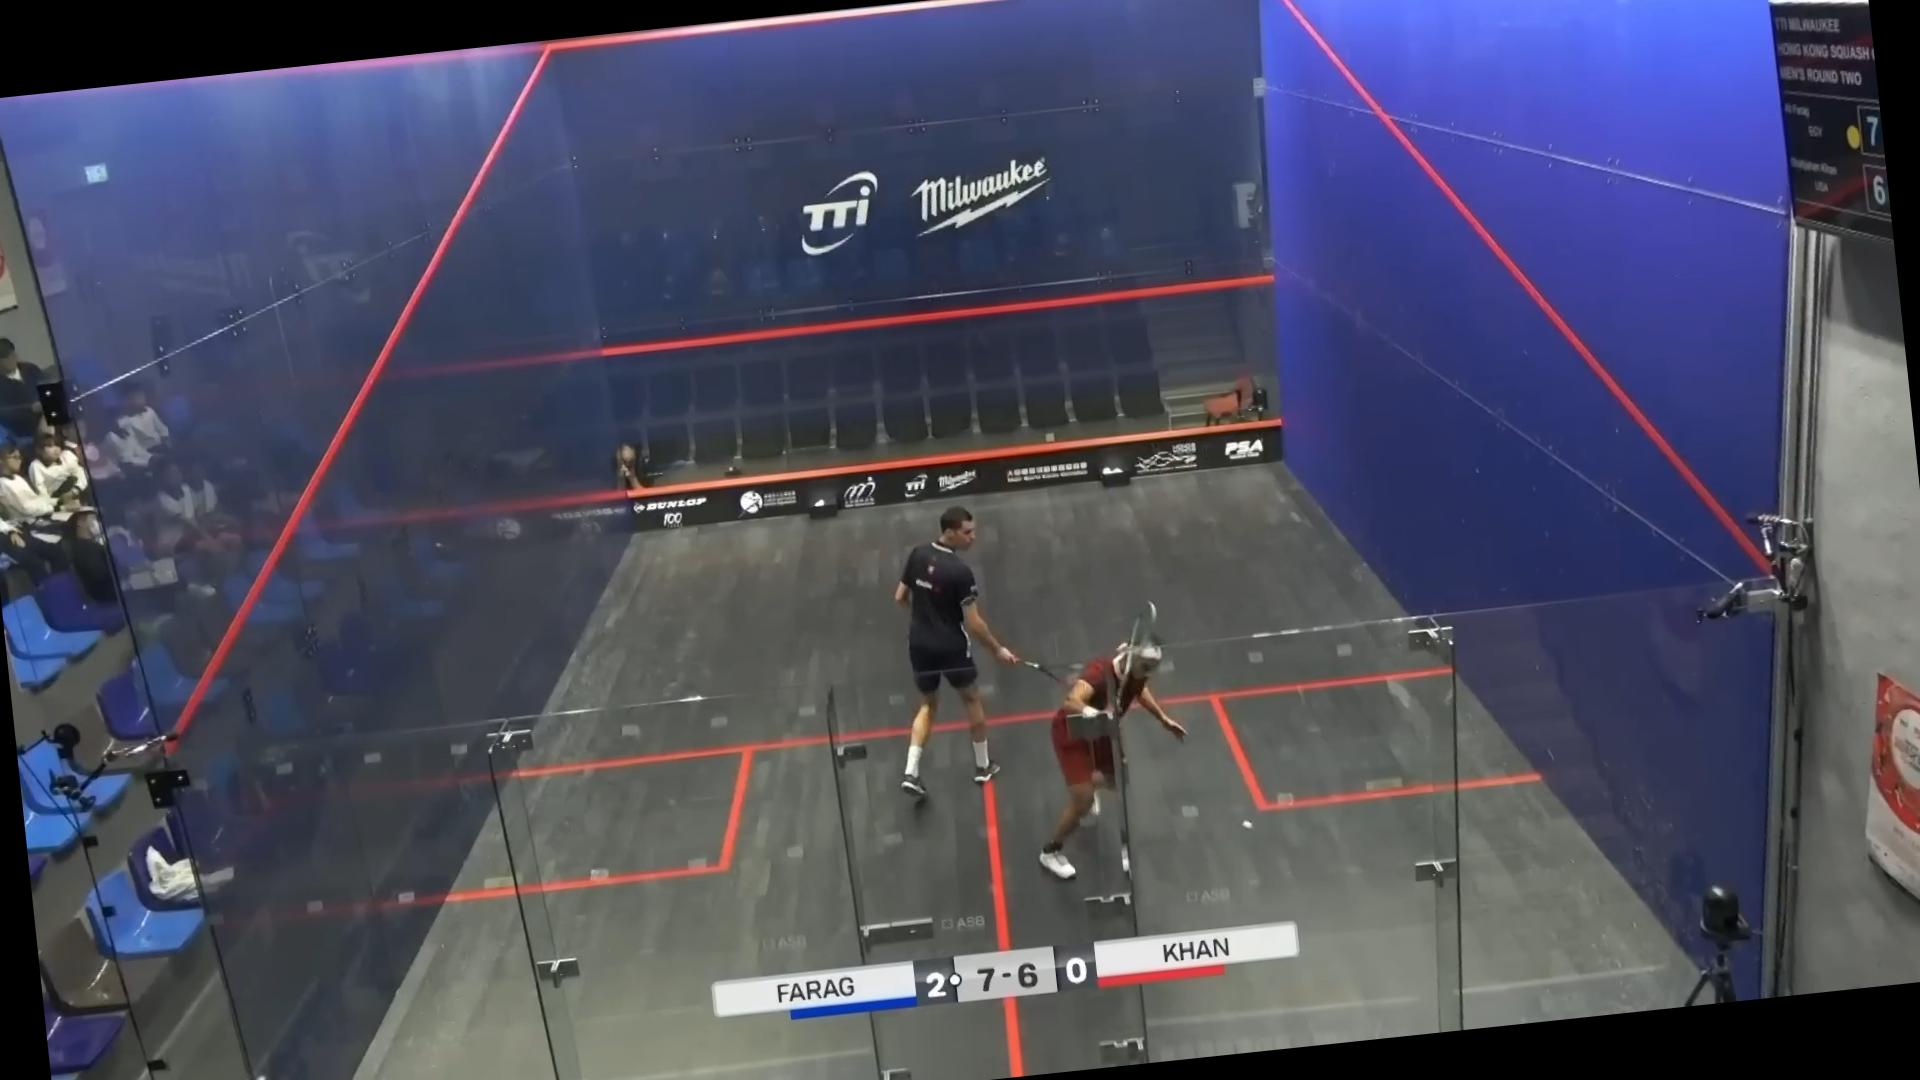Racket: (1105, 600, 1180, 719), (1021, 641, 1085, 690)
